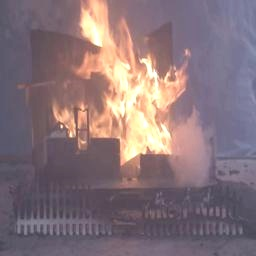fire: (61, 0, 191, 165)
